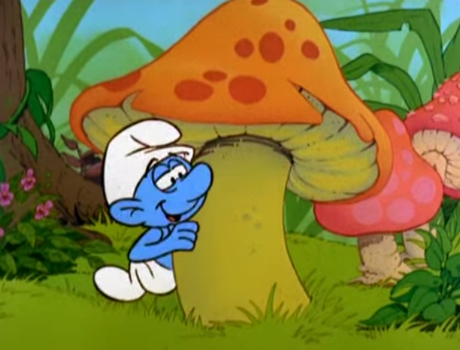smurf: (93, 117, 214, 303)
